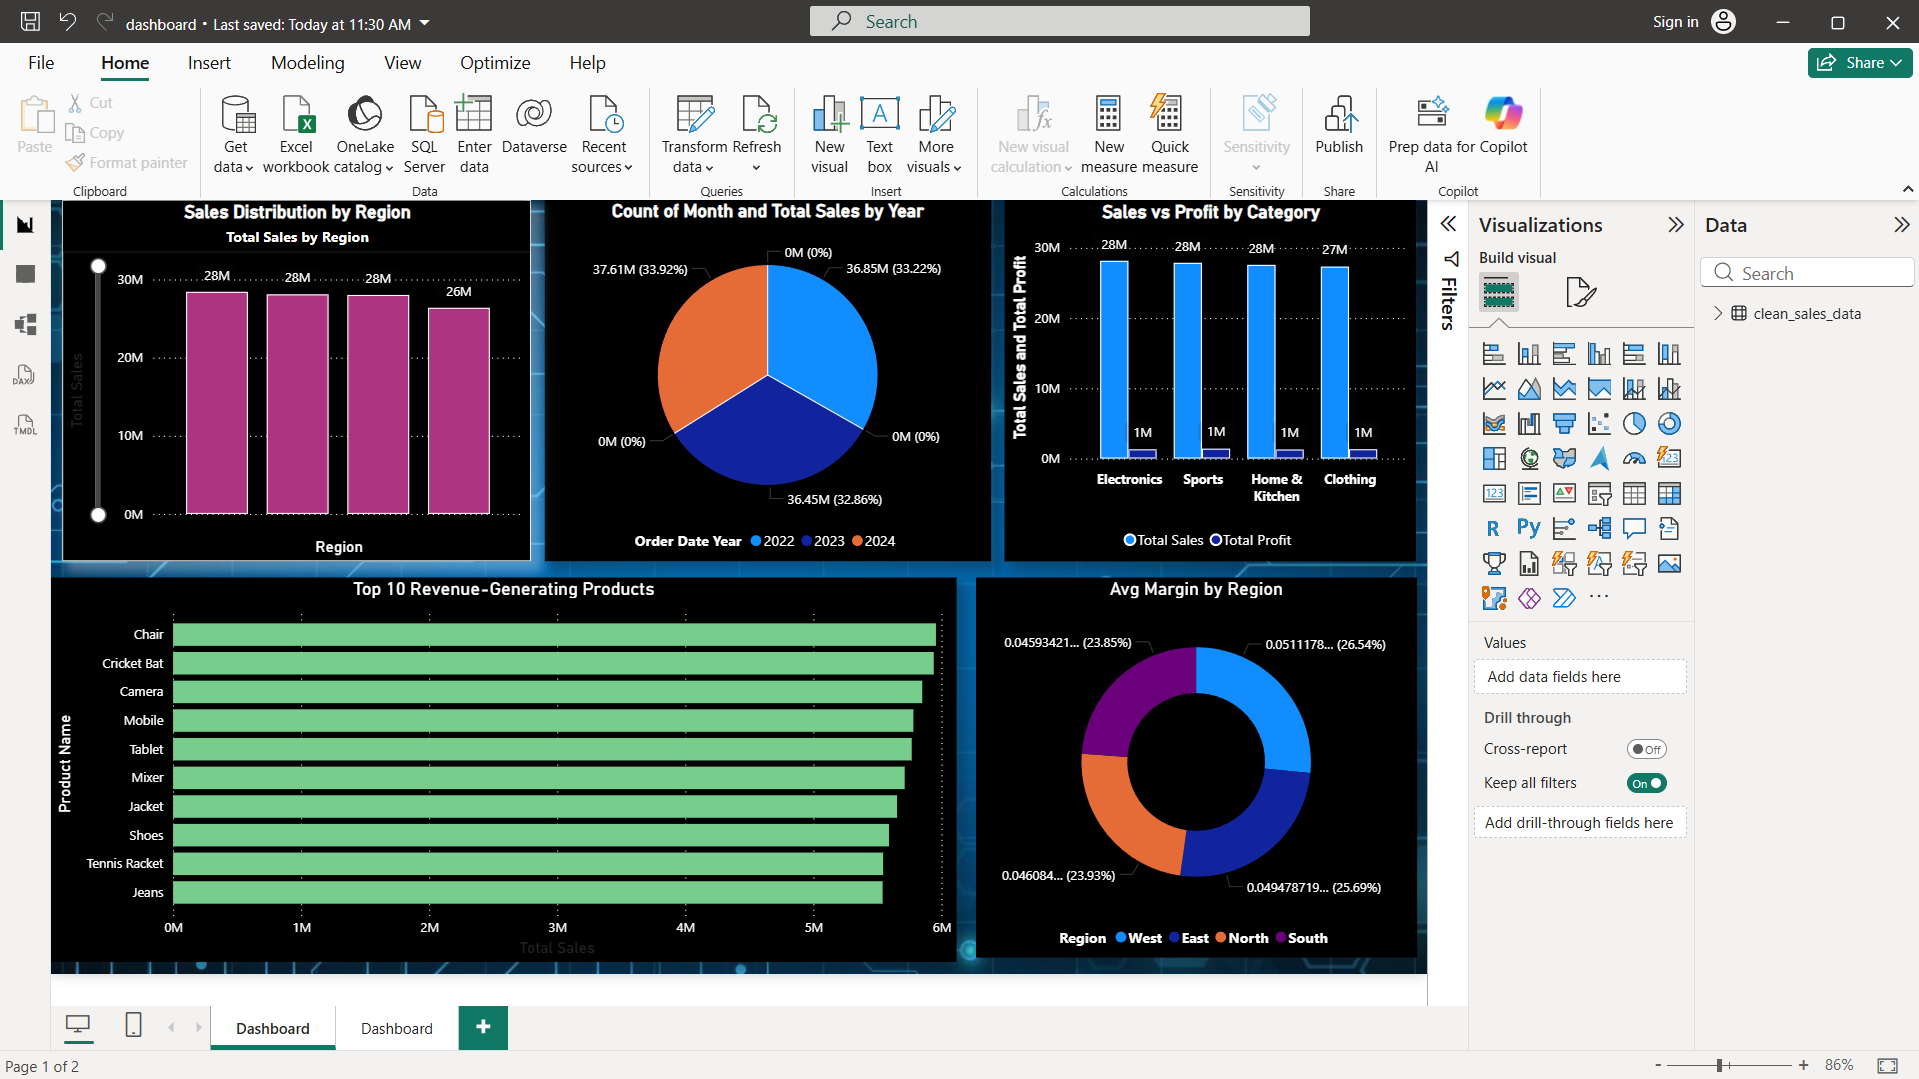

Layout of this report page (visuals, bound fields, positions):
{"tool":"powerbi","page":{"name":"Dashboard ","canvas":[1280,720],"ordinal":0},"visuals":[{"type":"pieChart","fields":{"Category":["clean_sales_data.Order Date.Variation.Date Hierarchy.Year"],"Y":["Count(clean_sales_data.Order Date.Variation.Date Hierarchy.Month)","clean_sales_data.Total Sales"]},"box":[459.3,0,415.1,336],"z":0},{"type":"clusteredColumnChart","title":"Sales Distribution by Region","fields":{"Category":["clean_sales_data.Region"],"Y":["clean_sales_data.Total Sales"]},"box":[10.5,0,436,336],"z":1000},{"type":"clusteredColumnChart","title":"Sales vs Profit by Category","fields":{"Category":["clean_sales_data.Category"],"Y":["clean_sales_data.Total Sales","clean_sales_data.Total Profit"]},"box":[887.2,0,382.6,336],"z":2000},{"type":"donutChart","fields":{"Category":["clean_sales_data.Region"],"Y":["clean_sales_data.Avg Margin"]},"box":[860,351.2,410,353.8],"z":3000},{"type":"clusteredBarChart","title":"Top 10 Revenue-Generating Products","fields":{"Category":["clean_sales_data.Product Name"],"Y":["clean_sales_data.Total Sales"]},"box":[0,351.2,842.5,357.5],"z":4000}]}

Visuals, with their boxes on the page's 1280x720 design canvas (x1, y1, x2, y2). These are canvas units, not pixel positions in the 1919x1079 screenshot, which may show the page scaled, cropped or inside an application window:
pieChart - clean_sales_data.Order Date.Variation.Date Hierarchy.Year x Count(clean_sales_data.Order Date.Variation.Date Hierarchy.Month): [x1=459, y1=0, x2=874, y2=336]
"Sales Distribution by Region" clusteredColumnChart: [x1=10, y1=0, x2=446, y2=336]
"Sales vs Profit by Category" clusteredColumnChart: [x1=887, y1=0, x2=1270, y2=336]
donutChart - clean_sales_data.Region x clean_sales_data.Avg Margin: [x1=860, y1=351, x2=1270, y2=705]
"Top 10 Revenue-Generating Products" clusteredBarChart: [x1=0, y1=351, x2=842, y2=709]
